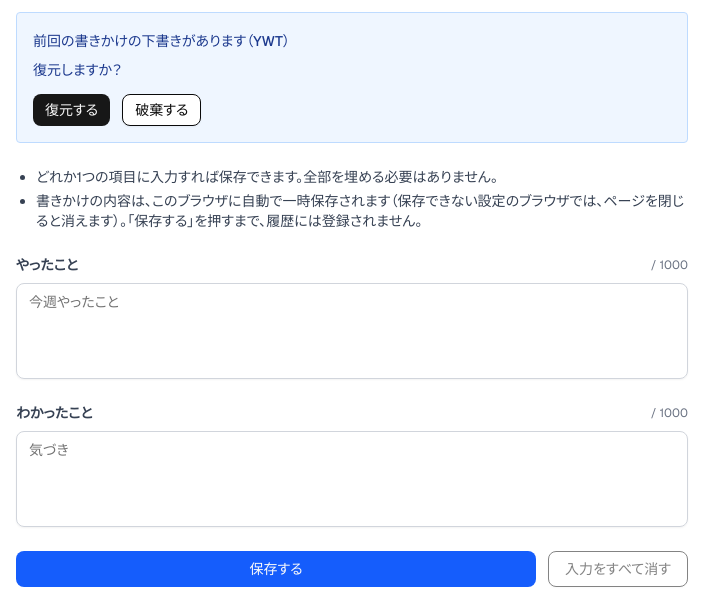
Test: ReflectionForm 下書きの自動保存 › 前回の下書きがあれば確認が出て、復元すると入力欄に戻る
The width and height of the screenshot is (705, 604).
Check: the text "前回の書きかけの下書きがあります（YWT）" is shown, box [33,32,290,50]
Check: the text box labelled "やったこと" is empty, box [16,283,688,379]
What coordinates should you click on to do the following:
click the button "復元する"
I would click on:
 (72, 110)
Its box is [33,94,110,126].
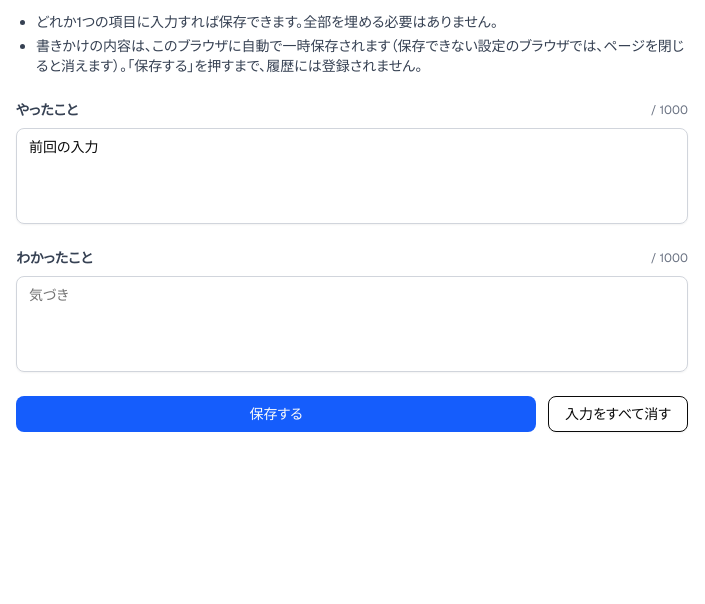
Check: the text box labelled "やったこと" holds "前回の入力", box [16,128,688,224]
Check: the text "前回の書きかけの下書きがあります" is gone
